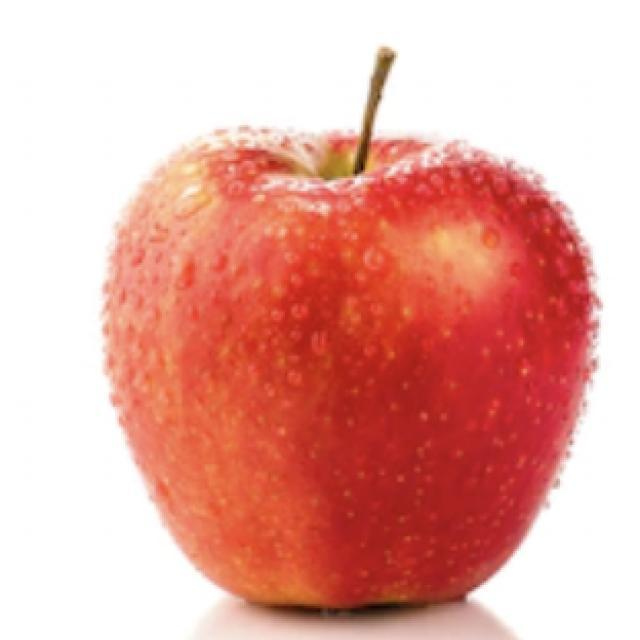Fresh Apple: (130, 130, 598, 640)
